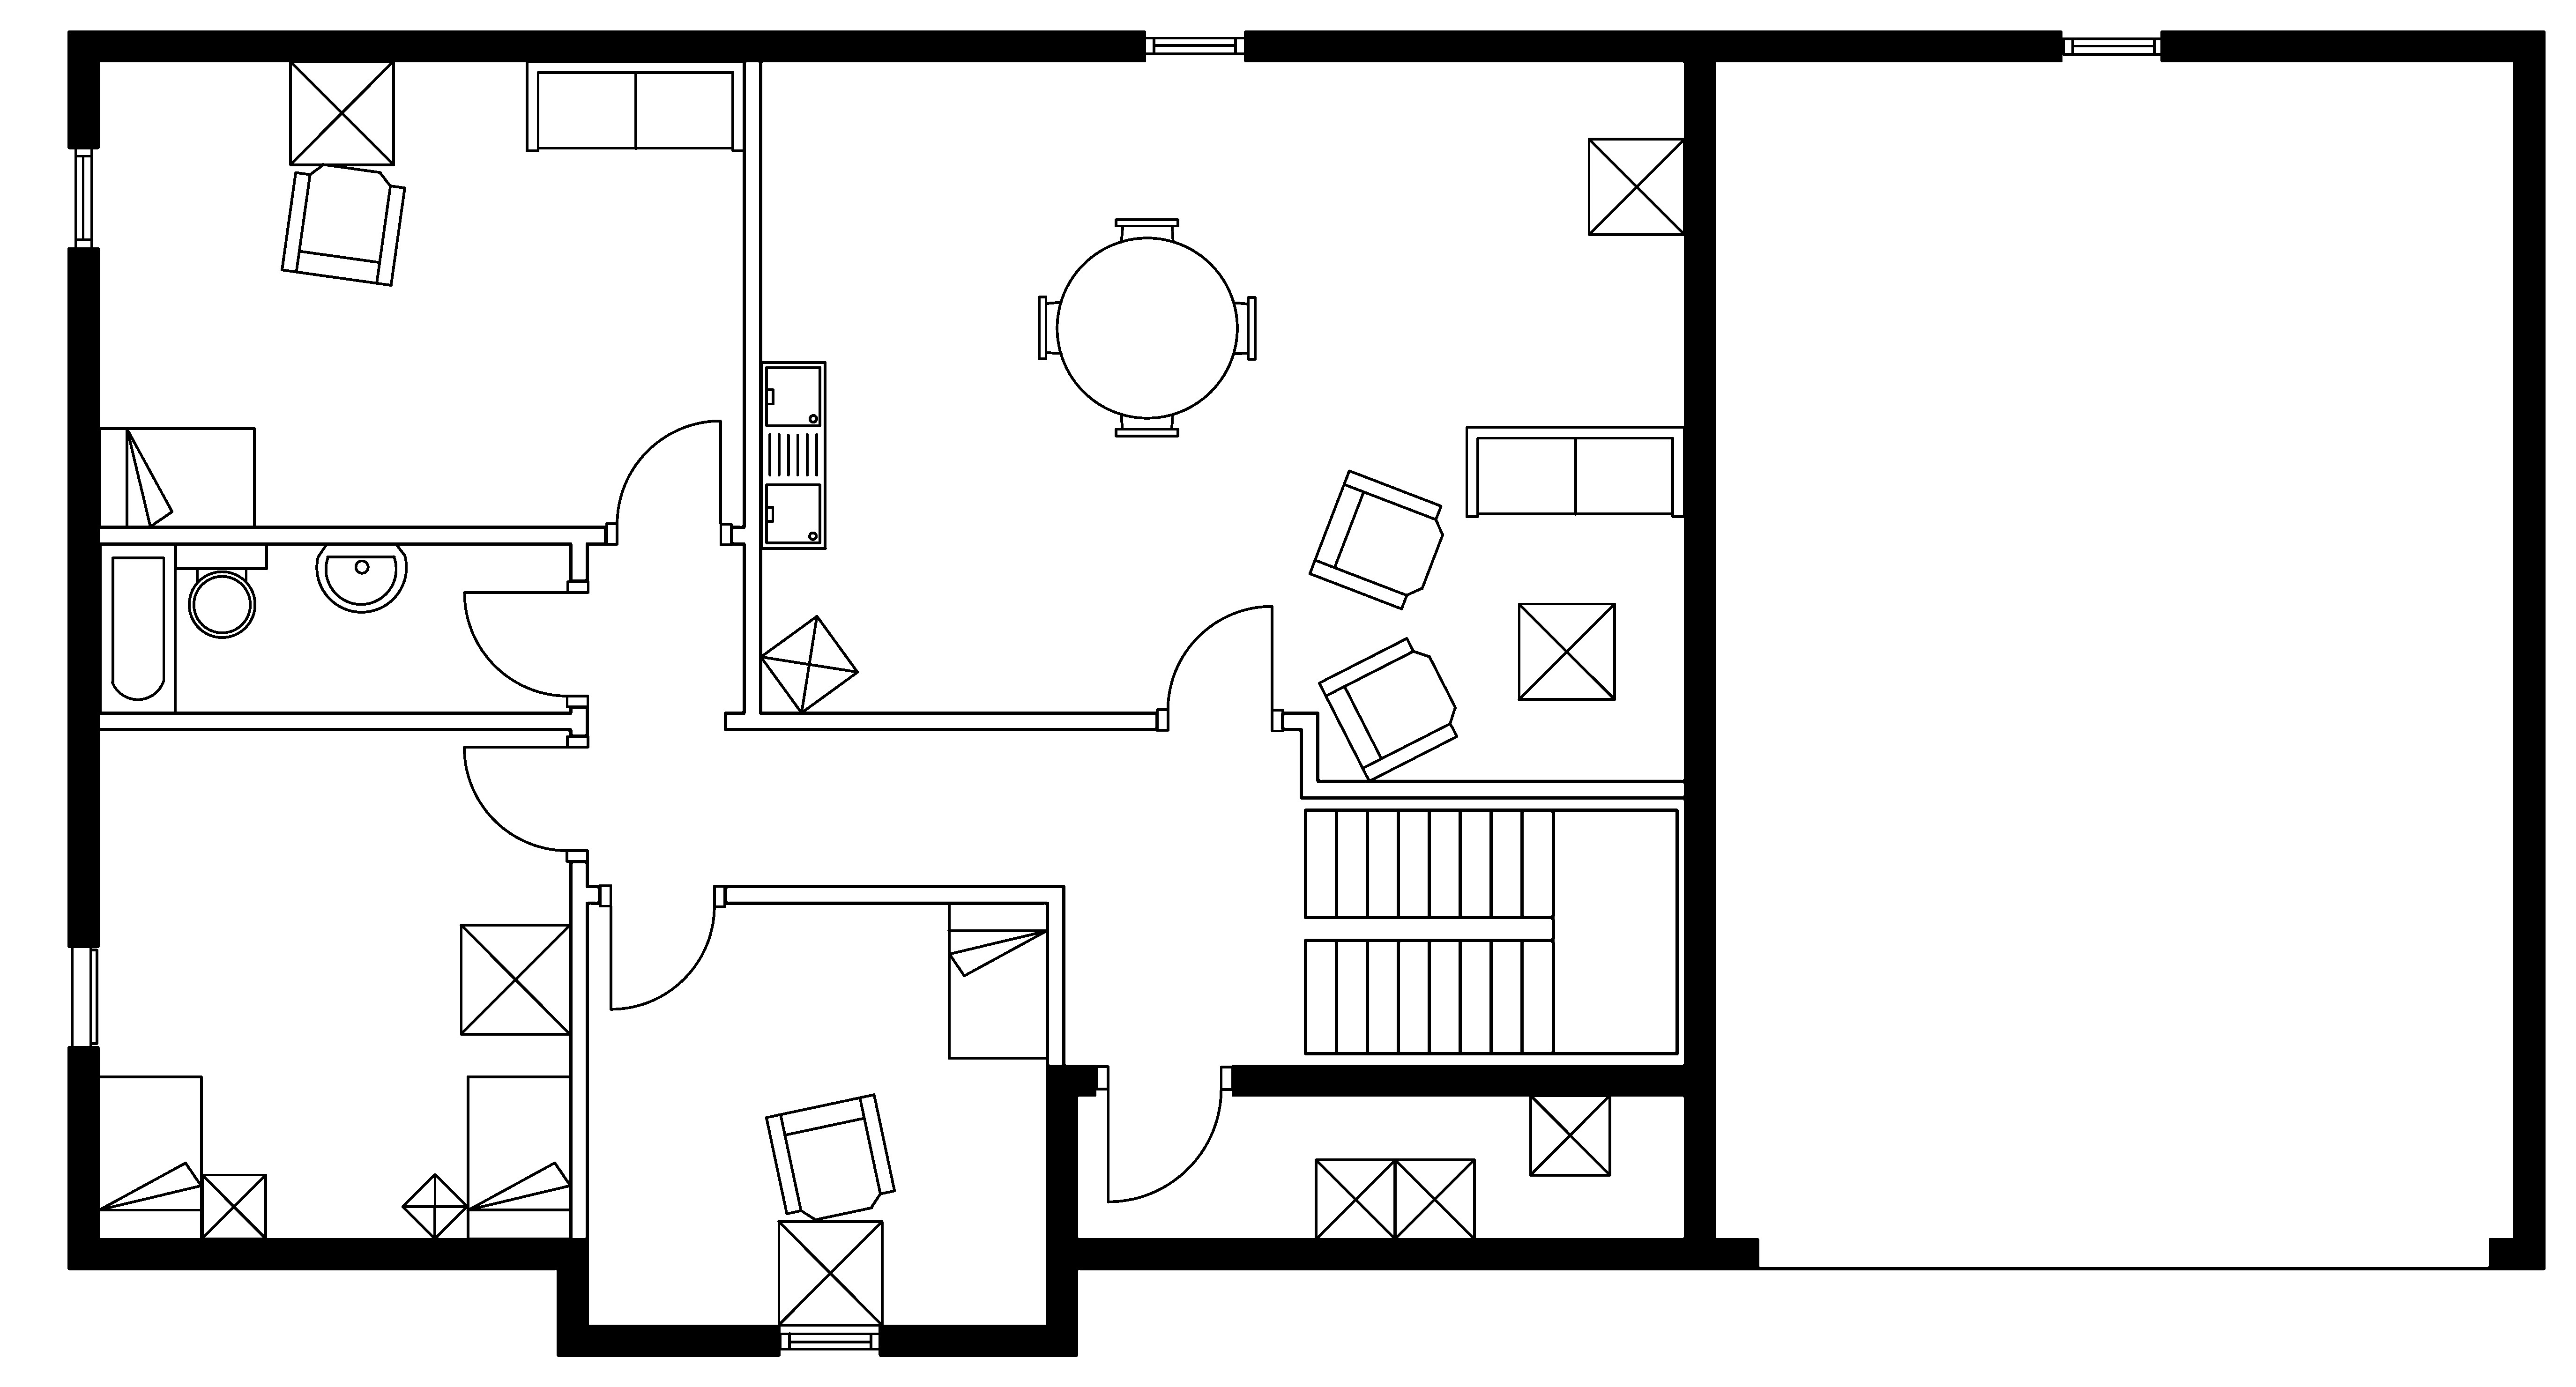armchair: (1317, 635, 1459, 782), (1307, 468, 1445, 610), (764, 1091, 897, 1221), (278, 162, 407, 287)
bed: (96, 1074, 203, 1240), (465, 1074, 572, 1240), (97, 425, 256, 530), (946, 900, 1049, 1059)
coffee_table: (458, 922, 572, 1035), (287, 58, 395, 166), (776, 1220, 883, 1327), (758, 613, 859, 714), (1517, 601, 1616, 702), (1587, 137, 1686, 236), (1527, 1093, 1613, 1177), (1392, 1156, 1476, 1240), (1314, 1156, 1397, 1240), (400, 1172, 470, 1240), (200, 1172, 268, 1240)
large_sink: (173, 541, 268, 639)
large_sofa: (1464, 425, 1686, 518), (524, 60, 746, 152)
round_table: (1037, 217, 1257, 437)
small_sink: (316, 541, 407, 613)
tub: (97, 541, 178, 714)
twin_sink: (758, 359, 827, 550)
